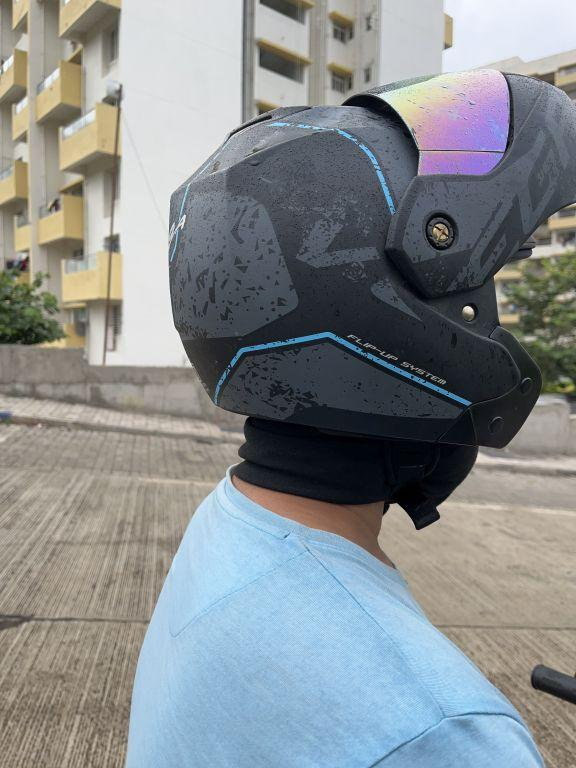helmet: (159, 47, 576, 482)
